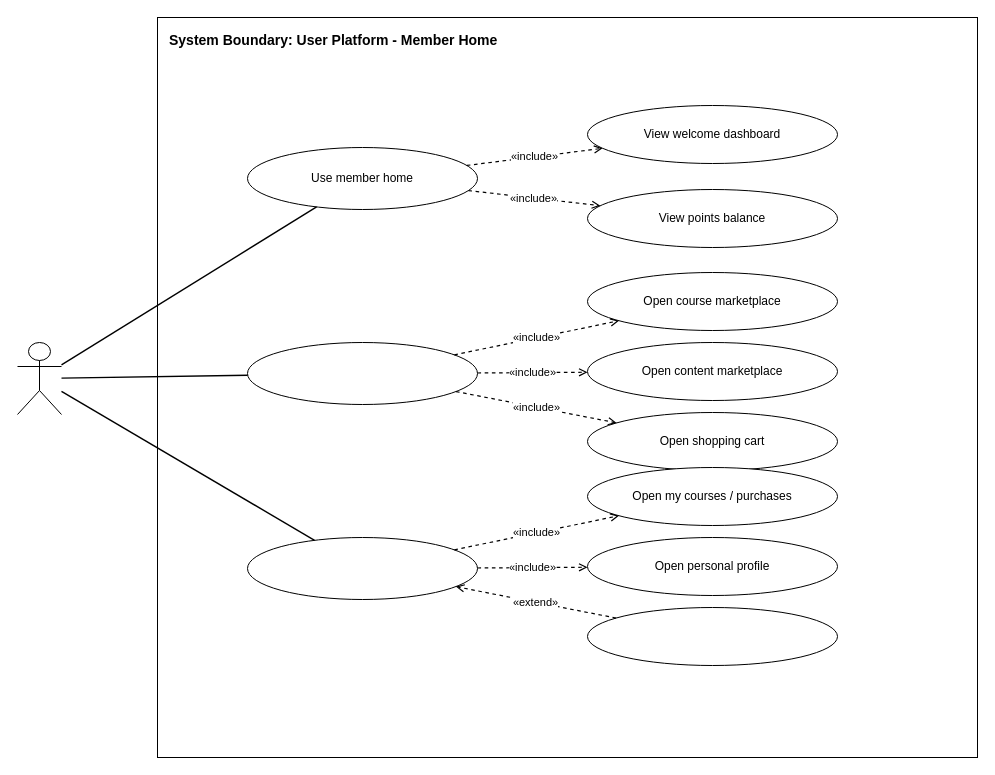
Some shapes in this 995 by 775 pixel diagram are drawn without their labels. The centre of each missing label's shape, as x and y in pixels:
"Apply for role upgrade" goes at point (712, 636).
"Manage personal area" goes at point (362, 568).
"Member" goes at point (39, 378).
"Navigate marketplaces" goes at point (362, 373).
